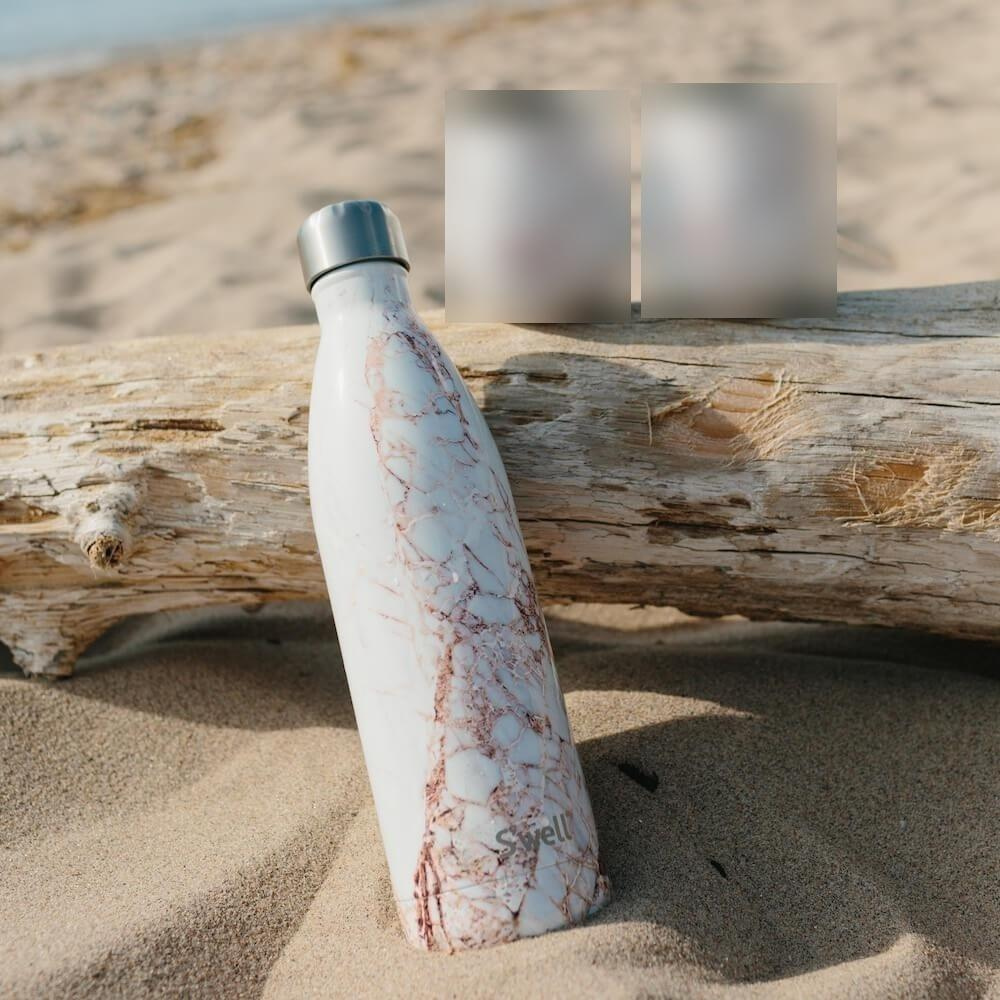gym bottle: (296, 202, 616, 963)
